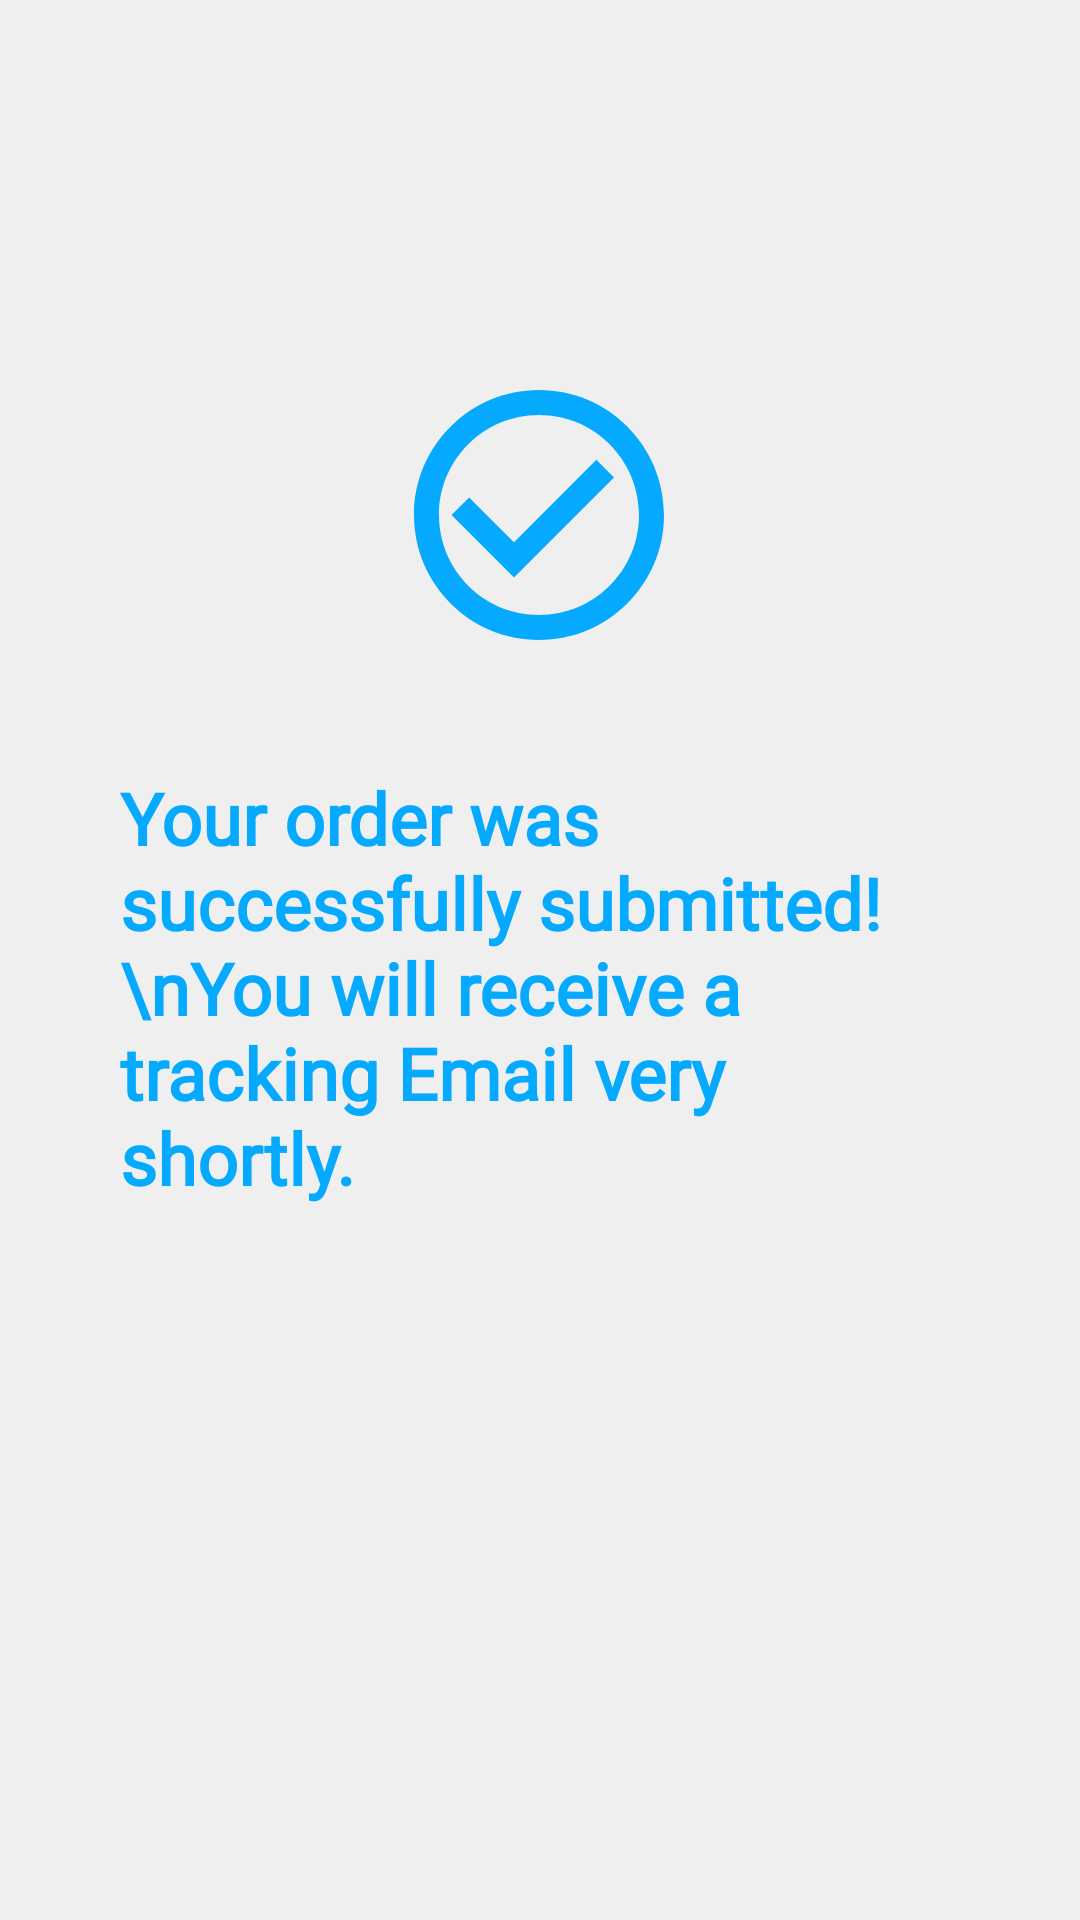

Point at icon controls on the screen. Image size 1080x1920, points as point (x, y).
check circle: point (539, 515)
